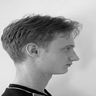ear: (23, 39, 44, 61)
